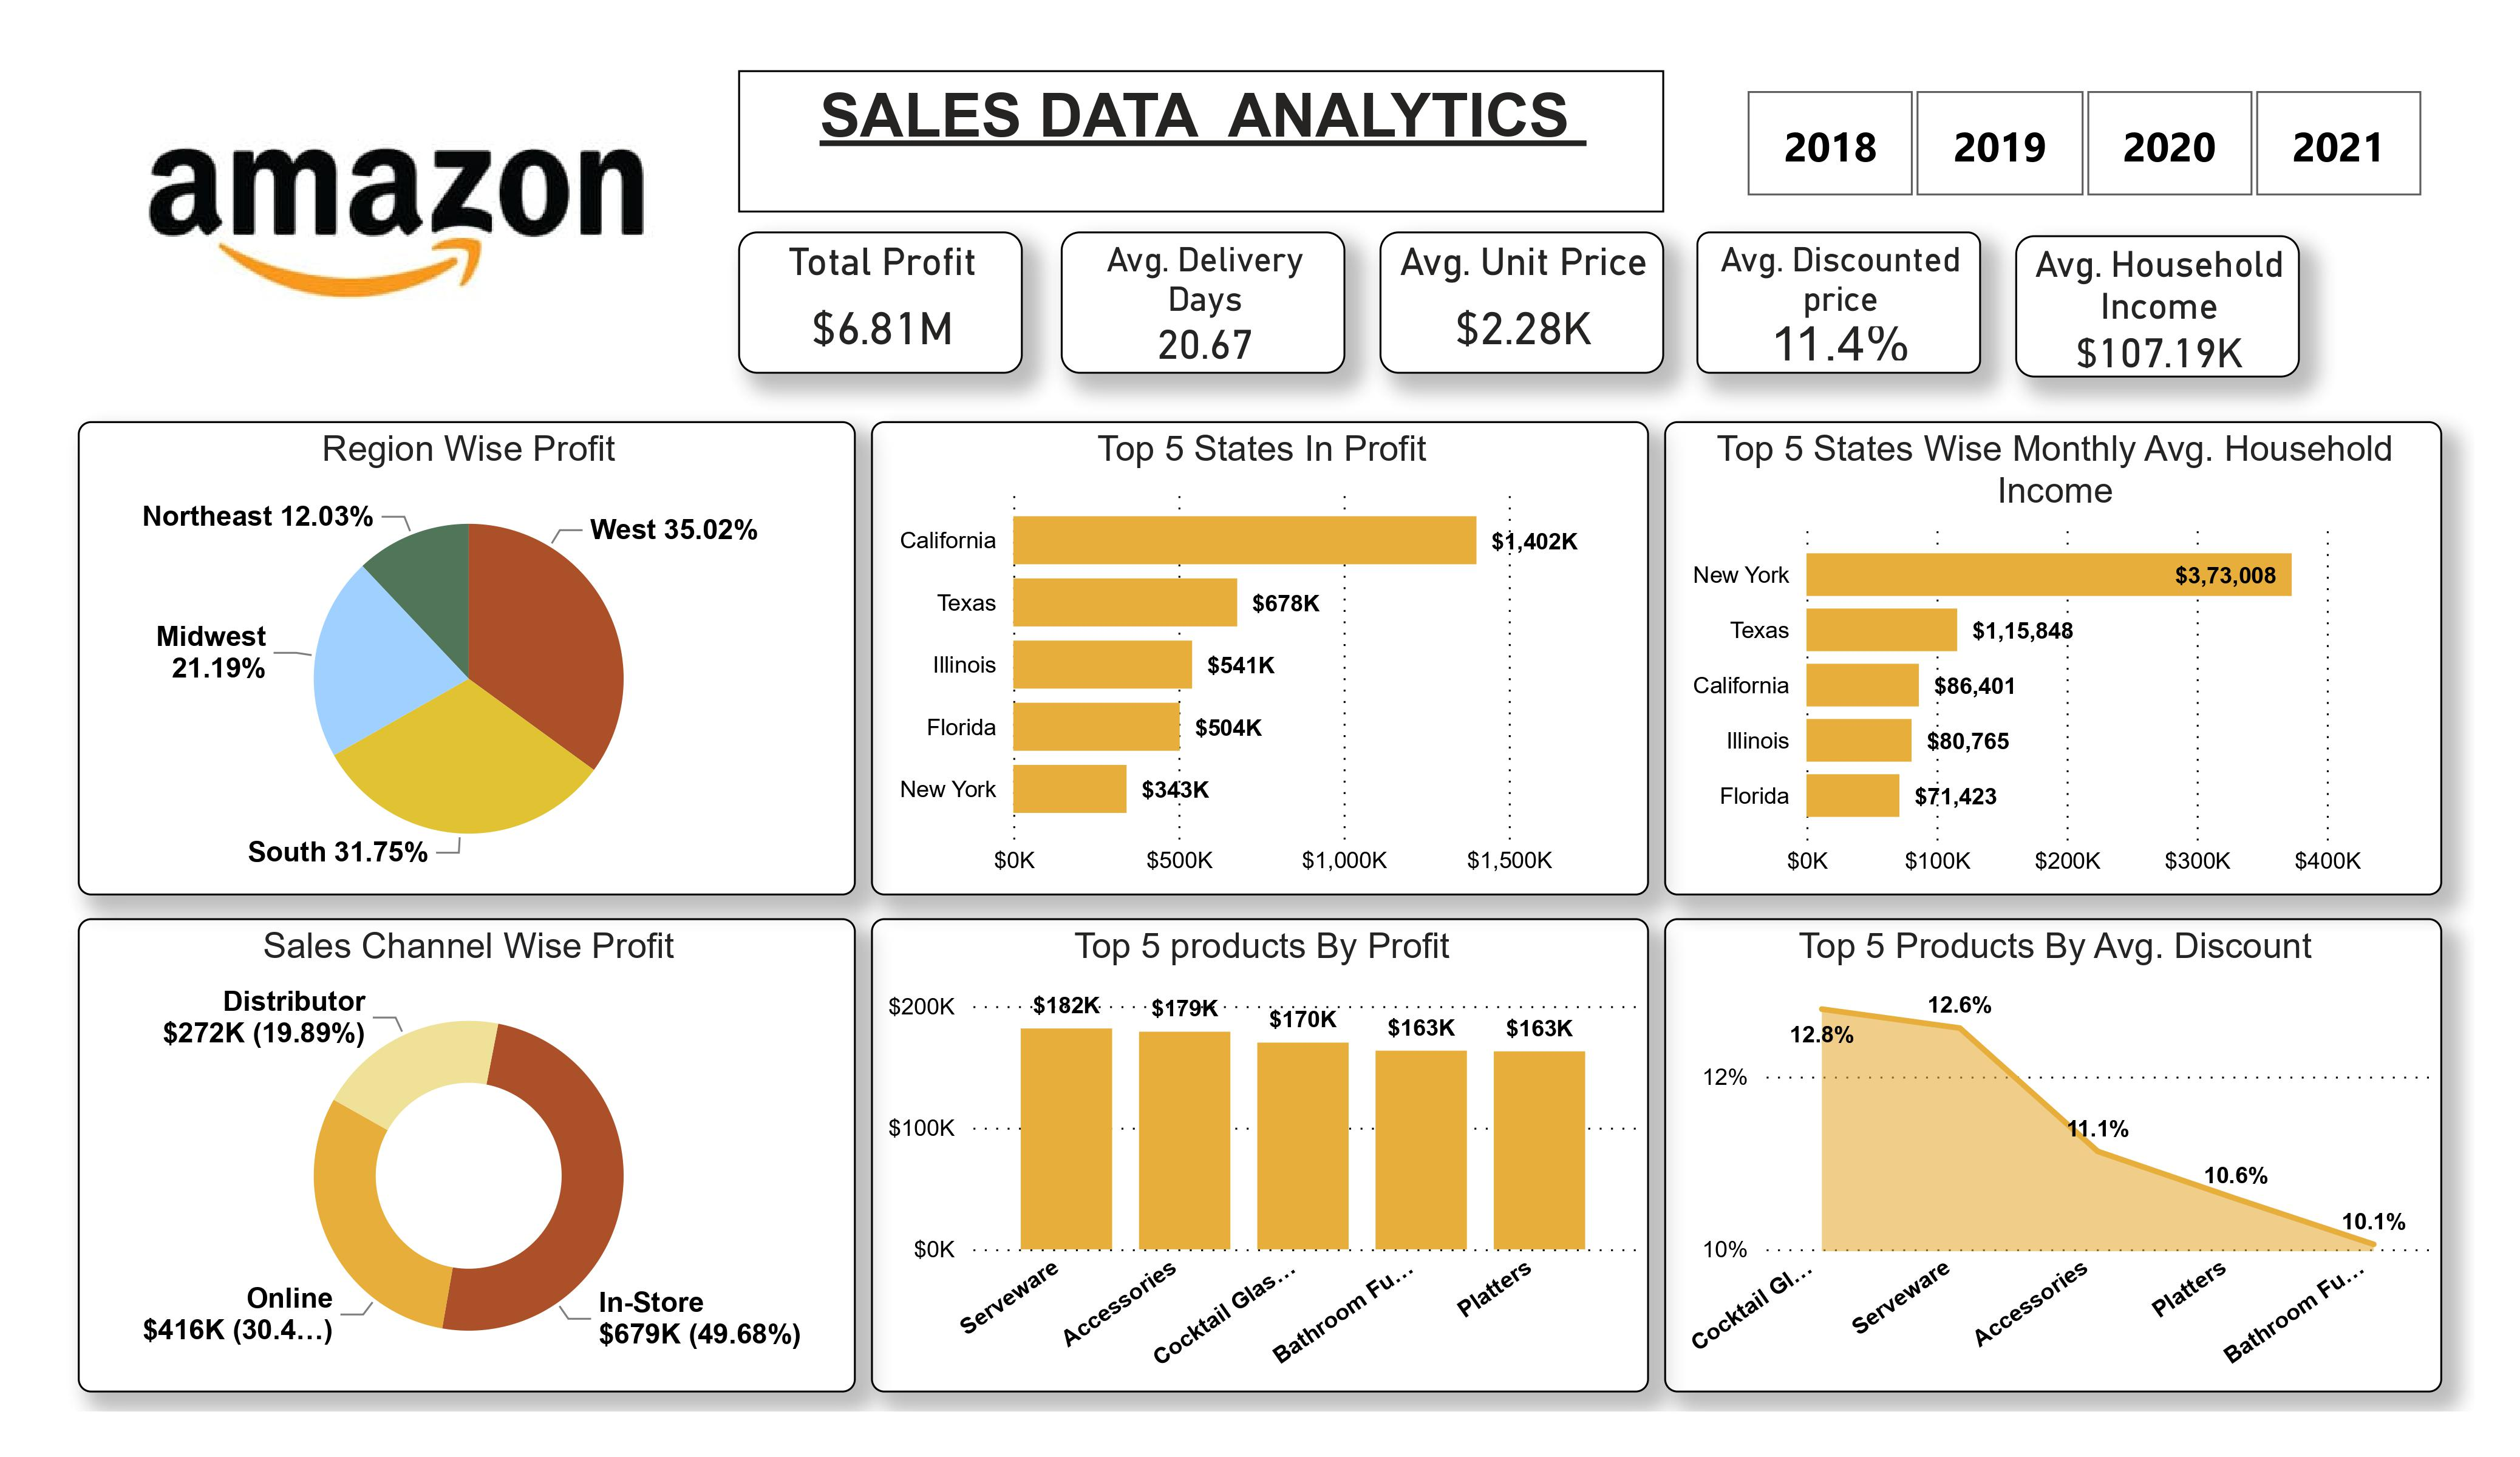

What the dashboard file says about the page in this screenshot:
{"tool":"powerbi","page":{"name":"Page 1","canvas":[1280,720],"ordinal":0},"visuals":[{"type":"card","title":"Total Profit","fields":{"Values":["Sum(Sales.Profit)"]},"box":[365,98.3,150,75],"z":0},{"type":"textbox","box":[365,13.3,488.3,75],"z":1000},{"type":"pieChart","title":"Region Wise Profit","fields":{"Category":["State_Regions.Region"],"Y":["Sum(Sales.Profit)"]},"box":[16.7,198.3,410,250],"z":2000},{"type":"card","title":"Avg.  Discounted price","fields":{"Values":["Avg(Sales.Discount Applied)"]},"box":[870,98.3,150,75],"z":3000},{"type":"clusteredBarChart","title":"Top 5 States In Profit","fields":{"Y":["Sum(Sales.Profit)"],"Category":["State_Regions.State"]},"box":[435,198.3,410,250],"z":4000},{"type":"slicer","title":"Total Profit","fields":{"Values":["Sales.Year"]},"box":[866.7,13.3,413.3,75],"z":5000},{"type":"card","title":"Avg. Unit Price","fields":{"Values":["Avg(Sales.Unit Price)"]},"box":[703.3,98.3,150,75],"z":6000},{"type":"card","title":"Avg. Household Income","fields":{"Values":["Avg(Locations.Household Income)"]},"box":[1038.3,100,150,75],"z":8000},{"type":"donutChart","title":"Sales Channel Wise Profit","fields":{"Category":["Sales.Sales Channel"],"Y":["Sum(Sales.Profit)"]},"box":[16.7,460,410,250],"z":9000},{"type":"clusteredColumnChart","title":"Top 5 products By Profit","fields":{"Category":["Products.Product Name"],"Y":["Sum(Sales.Profit)"]},"box":[435,460,410,250],"z":10000},{"type":"card","title":"Avg. Delivery Days","fields":{"Values":["Avg(Sales.Delivery Days)"]},"box":[535,98.3,150,75],"z":11000},{"type":"areaChart","title":"Top 5 Products By Avg. Discount","fields":{"Category":["Products.Product Name"],"Y":["Avg(Sales.Discount Applied)"]},"box":[853.3,460,410,250],"z":12000},{"type":"clusteredBarChart","title":"Top 5 States Wise Monthly Avg. Household Income","fields":{"Category":["State_Regions.State"],"Y":["Avg(Locations.Household Income)"]},"box":[853.3,198.3,410,250],"z":13000},{"type":"image","box":[16.1,8,336.3,160.9],"z":13001}]}

Visuals, with their boxes in screenshot pixels (x1, y1, x2, y2):
"Total Profit" card: [738, 232, 1023, 375]
textbox: [738, 71, 1665, 213]
"Region Wise Profit" pieChart: [77, 422, 855, 896]
"Avg.  Discounted price" card: [1697, 232, 1981, 375]
"Top 5 States In Profit" clusteredBarChart: [871, 422, 1649, 896]
"Total Profit" slicer: [1690, 71, 2474, 213]
"Avg. Unit Price" card: [1380, 232, 1665, 375]
"Avg. Household Income" card: [2016, 236, 2300, 378]
"Sales Channel Wise Profit" donutChart: [77, 918, 855, 1393]
"Top 5 products By Profit" clusteredColumnChart: [871, 918, 1649, 1393]
"Avg. Delivery Days" card: [1061, 232, 1346, 375]
"Top 5 Products By Avg. Discount" areaChart: [1665, 918, 2443, 1393]
"Top 5 States Wise Monthly Avg. Household Income" clusteredBarChart: [1665, 422, 2443, 896]
image: [76, 61, 714, 366]
